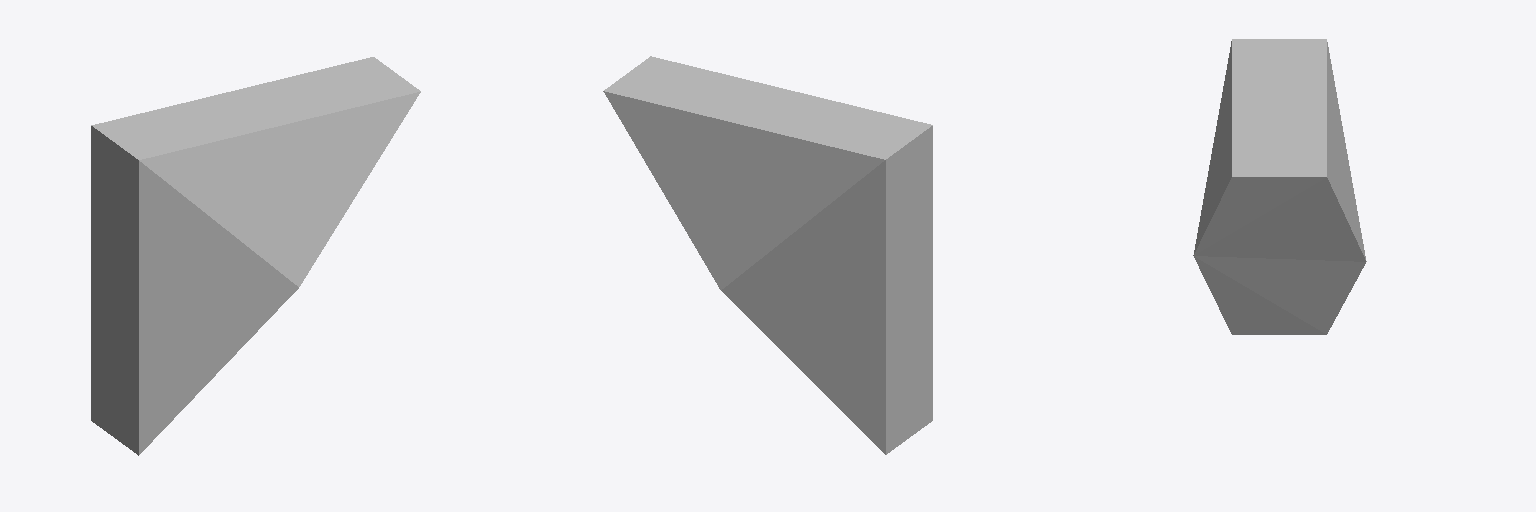
Rendered from Triangle1.obj.
3 renders of one model, left to right at view 1: azimuth 30°, elevation 25°; view 2: azimuth 150°, elevation 25°; view 3: azimuth 270°, elevation 25°, orthographic.
Parts seen in each view (by area): view 1: Triangle1.001; view 2: Triangle1.001; view 3: Triangle1.001.
Boxes of the visible parts, x1,y1,x2,y2 form: Triangle1.001: [91, 57, 420, 455]; Triangle1.001: [603, 56, 932, 454]; Triangle1.001: [1193, 39, 1366, 334].
Size of the model in its own units: 0.8903 by 0.89 by 0.4729.